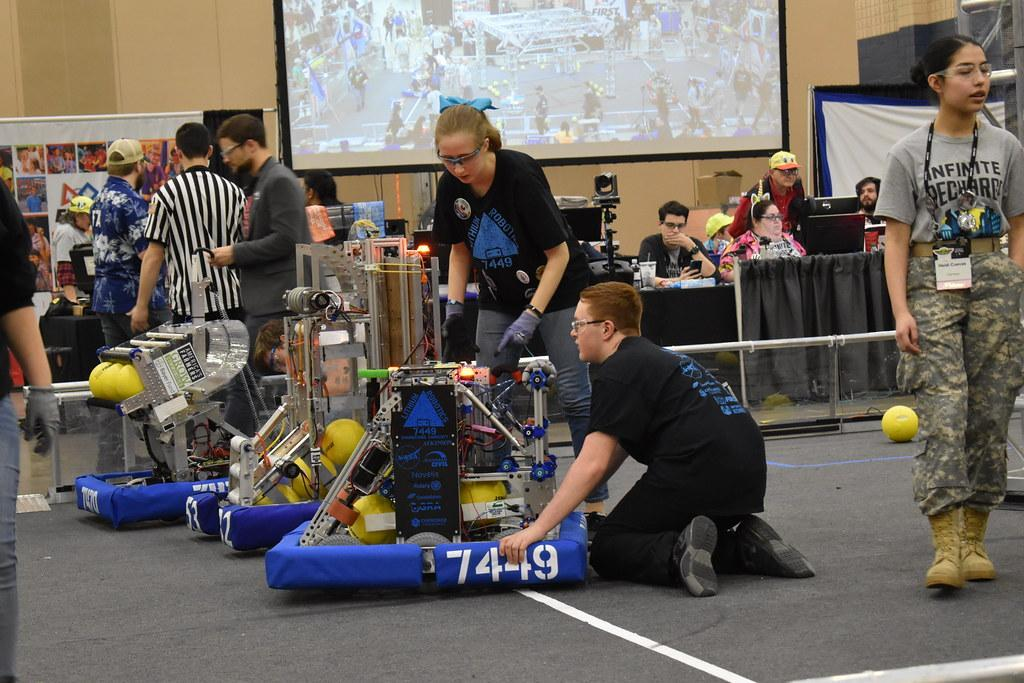robot: (181, 232, 496, 557), (264, 351, 606, 605), (71, 249, 287, 534)
